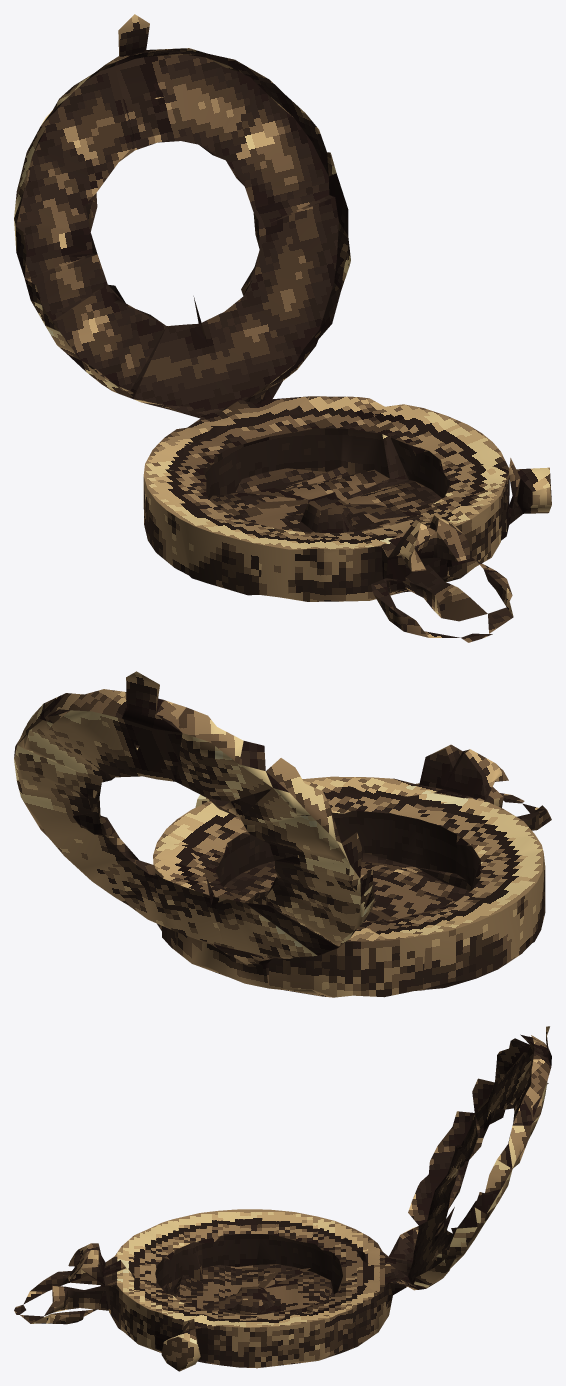
Rendered from seadogs_compass.glb.
The picture shows the model from 3 angles, top to bottom: view 1: azimuth 30°, elevation 25°; view 2: azimuth 150°, elevation 25°; view 3: azimuth 270°, elevation 25°; orthographic projection. The views are drawn at different scales.
Parts seen in each view (by area): view 1: body; view 2: body; view 3: body.
Part boxes in pixels (x1,y1,x2,y2): body: (14, 14, 551, 642); body: (14, 671, 551, 997); body: (14, 1026, 551, 1371).
Bounding box in the file's own units: 0.0813 × 0.0866 × 0.1448.
Materials: 1 (1 with a texture image).
